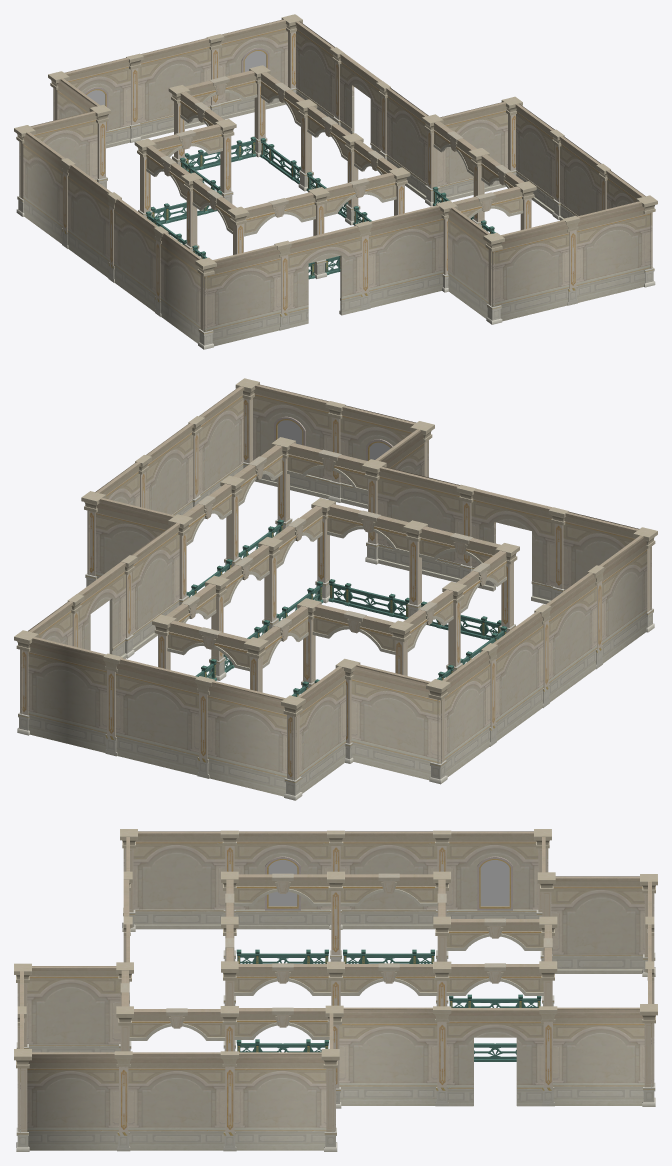
Rendered from Homeworld_Interior_Fd_Room_F_Wall_01_Vo.fbx.
The picture shows the model from 3 angles, top to bottom: view 1: azimuth 30°, elevation 25°; view 2: azimuth 150°, elevation 25°; view 3: azimuth 270°, elevation 25°; orthographic projection. The views are drawn at different scales.
Parts seen in each view (by area): view 1: Homeworld_Interior_Fd_Room_F_Filling_01_Vo, Homeworld_Interior_Fd_Room_Wall_01_Vo (×8), Homeworld_Interior_Fd_Room_Wall_05_Vo (×12), Homeworld_Interior_Fd_Room_Pillar_01_Vo (×21), Homeworld_Interior_Fd_Room_Wall_02_Vo (×2), Homeworld_Interior_Fd_Room_Wall_06_Vo (×2), Homeworld_Interior_Fd_Room_Pillar_02_Vo (×10), Homeworld_Interior_Fd_Room_Wall_04_Vo; view 2: Homeworld_Interior_Fd_Room_F_Filling_01_Vo, Homeworld_Interior_Fd_Room_Wall_01_Vo (×7), Homeworld_Interior_Fd_Room_Wall_05_Vo (×12), Homeworld_Interior_Fd_Room_Pillar_01_Vo (×21), Homeworld_Interior_Fd_Room_Wall_02_Vo (×2), Homeworld_Interior_Fd_Room_Pillar_02_Vo (×10), Homeworld_Interior_Fd_Room_Wall_06_Vo (×2), Homeworld_Interior_Fd_Room_Wall_04_Vo; view 3: Homeworld_Interior_Fd_Room_F_Filling_01_Vo, Homeworld_Interior_Fd_Room_Wall_01_Vo (×4), Homeworld_Interior_Fd_Room_Wall_05_Vo (×8), Homeworld_Interior_Fd_Room_Wall_02_Vo (×2), Homeworld_Interior_Fd_Room_Pillar_01_Vo (×17), Homeworld_Interior_Fd_Room_Wall_06_Vo, Homeworld_Interior_Fd_Room_Pillar_02_Vo (×7).
Boxes of the visible parts, x1,y1,x2,y2 form: Homeworld_Interior_Fd_Room_F_Filling_01_Vo: (23,19,652,346); Homeworld_Interior_Fd_Room_Wall_01_Vo (×8): (19,21,651,268); Homeworld_Interior_Fd_Room_Wall_05_Vo (×12): (146,70,524,279); Homeworld_Interior_Fd_Room_Pillar_01_Vo (×21): (14,14,657,349); Homeworld_Interior_Fd_Room_Wall_02_Vo (×2): (53,19,287,148); Homeworld_Interior_Fd_Room_Wall_06_Vo (×2): (288,53,382,327); Homeworld_Interior_Fd_Room_Pillar_02_Vo (×10): (61,34,579,330); Homeworld_Interior_Fd_Room_Wall_04_Vo: (453,186,523,218); Homeworld_Interior_Fd_Room_F_Filling_01_Vo: (28,384,647,796); Homeworld_Interior_Fd_Room_Wall_01_Vo (×7): (21,386,651,714); Homeworld_Interior_Fd_Room_Wall_05_Vo (×12): (166,445,507,696); Homeworld_Interior_Fd_Room_Pillar_01_Vo (×21): (14,378,657,800); Homeworld_Interior_Fd_Room_Wall_02_Vo (×2): (253,384,428,508); Homeworld_Interior_Fd_Room_Pillar_02_Vo (×10): (103,401,604,778); Homeworld_Interior_Fd_Room_Wall_06_Vo (×2): (77,489,554,658); Homeworld_Interior_Fd_Room_Wall_04_Vo: (287,443,367,493); Homeworld_Interior_Fd_Room_F_Filling_01_Vo: (27,831,644,1150); Homeworld_Interior_Fd_Room_Wall_01_Vo (×4): (17,832,654,1052); Homeworld_Interior_Fd_Room_Wall_05_Vo (×8): (129,873,543,1061); Homeworld_Interior_Fd_Room_Wall_02_Vo (×2): (234,831,548,929); Homeworld_Interior_Fd_Room_Pillar_01_Vo (×17): (14,829,657,1151); Homeworld_Interior_Fd_Room_Wall_06_Vo: (446,1008,543,1106); Homeworld_Interior_Fd_Room_Pillar_02_Vo (×7): (114,830,557,1151).
Size of what is drawn, in the model's own units: 25.35 by 5.01 by 30.34.
